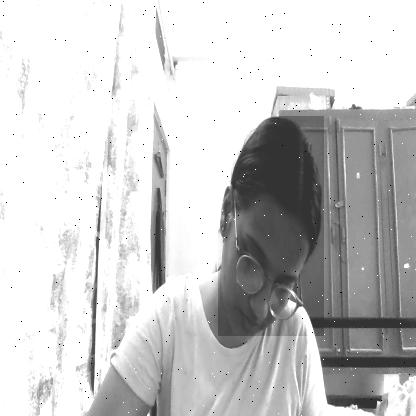Distracted: (218, 116, 324, 336)
